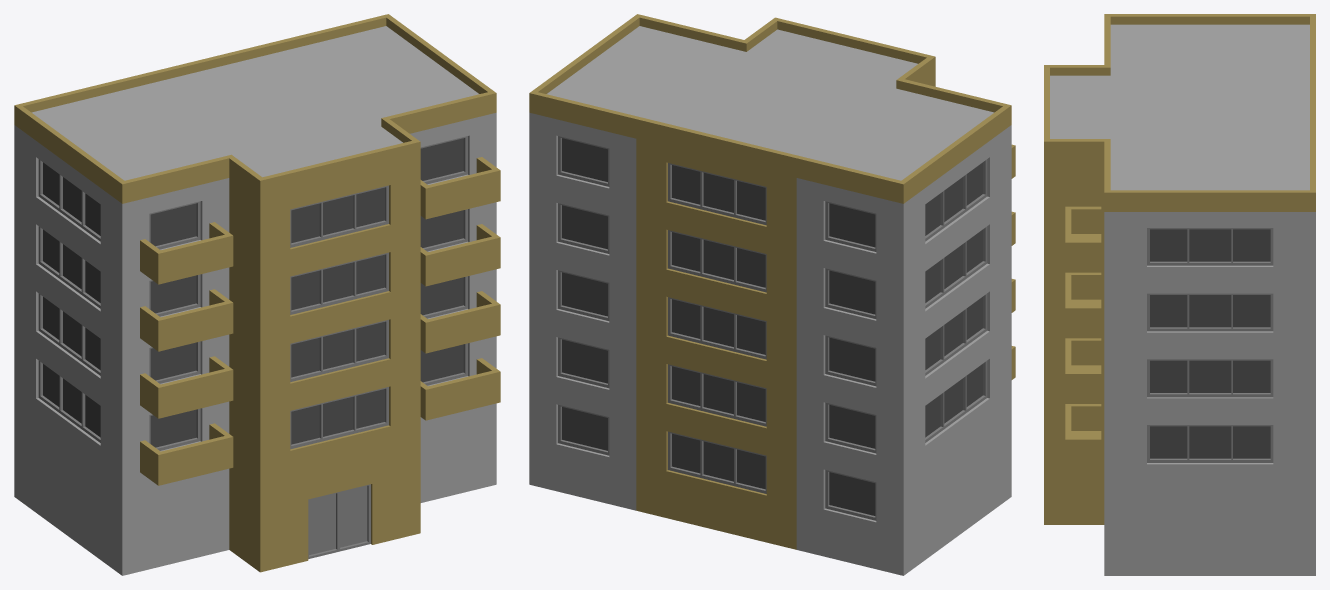
File: Buiding_8.fbx
3 views of the same model, side by side, from view 1: azimuth 30°, elevation 25°; view 2: azimuth 150°, elevation 25°; view 3: azimuth 270°, elevation 25° (orthographic). The views are drawn at different scales.
Parts seen in each view (by area): view 1: Building_8; view 2: Building_8; view 3: Building_8.
Part boxes in pixels (box(x1,y1,x2,y2)): Building_8: box(14, 14, 500, 575); Building_8: box(529, 14, 1015, 575); Building_8: box(1044, 14, 1315, 575).
Bounding box in the file's own units: 7000 × 7000 × 4500.
